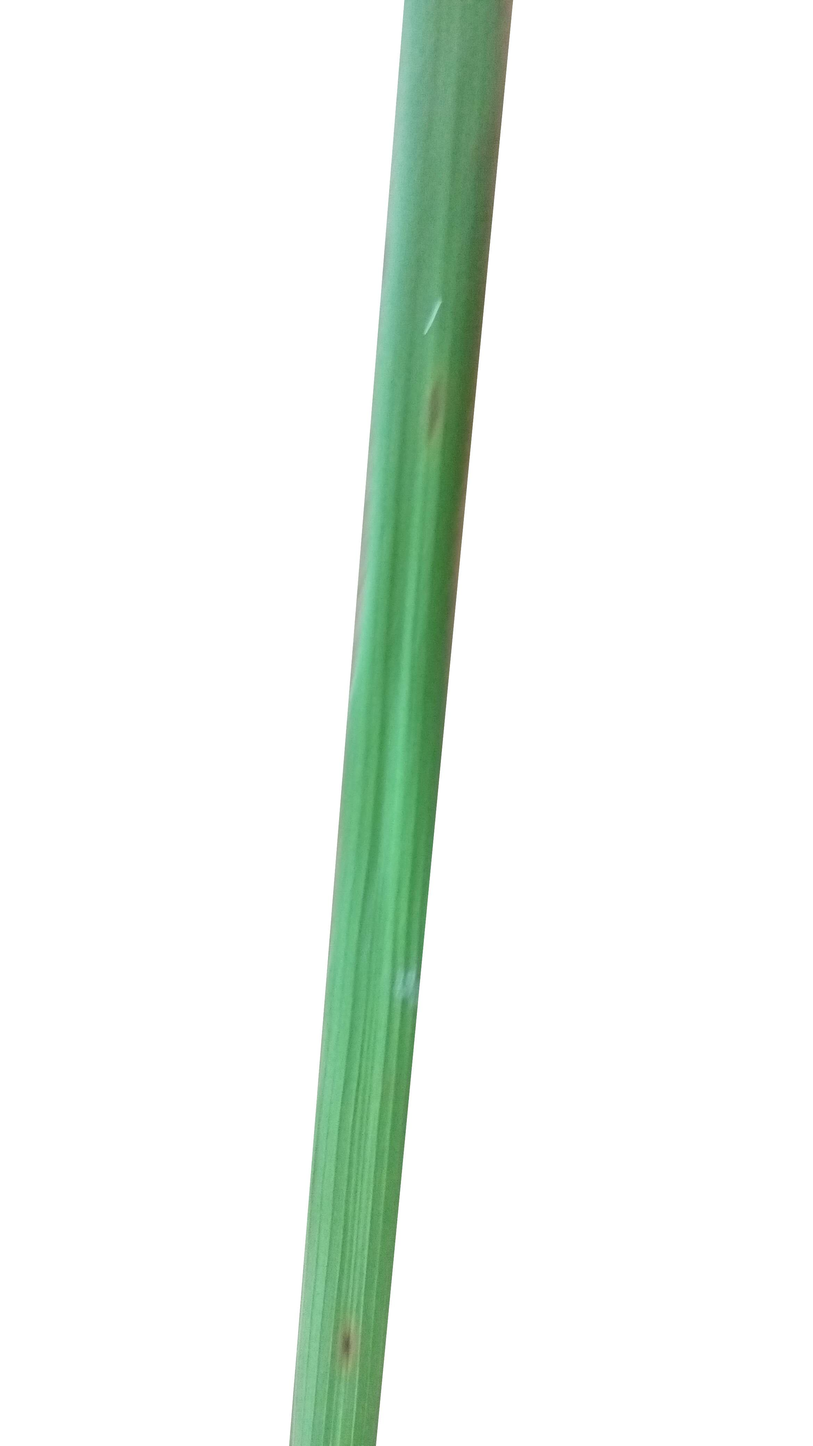Brown spot: (313, 1279, 389, 1363)
